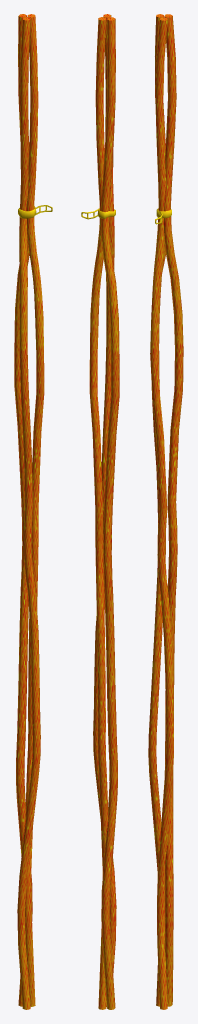
File: SM_Cable_06.glb
The picture shows the model from 3 angles, left to right: view 1: azimuth 30°, elevation 25°; view 2: azimuth 210°, elevation 25°; view 3: azimuth 270°, elevation 25°; orthographic projection.
Parts seen in each view (by area): view 1: SM_Cable_06; view 2: SM_Cable_06; view 3: SM_Cable_06.
Part boxes in pixels (<box>): SM_Cable_06: <box>14,14,52,1009</box>; SM_Cable_06: <box>81,14,119,1009</box>; SM_Cable_06: <box>148,14,183,1009</box>.
Bounding box in the file's own units: 0.1039 × 3 × 0.0968.
1 material, 1 textured.
